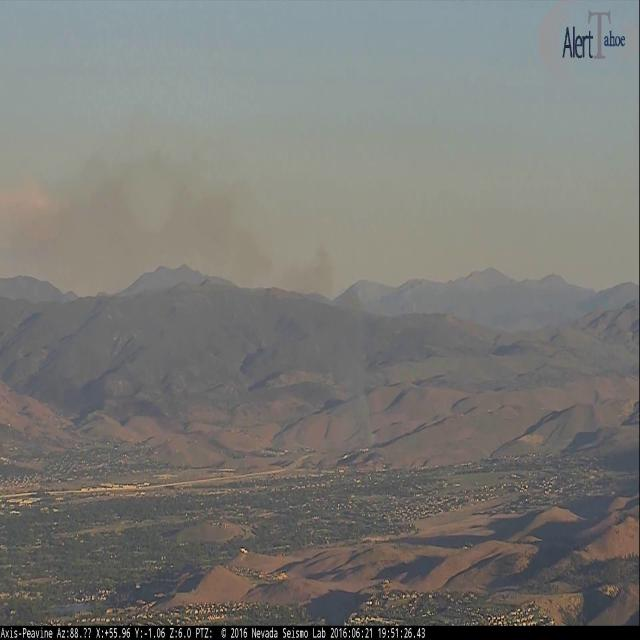smoke: (0, 150, 379, 454)
